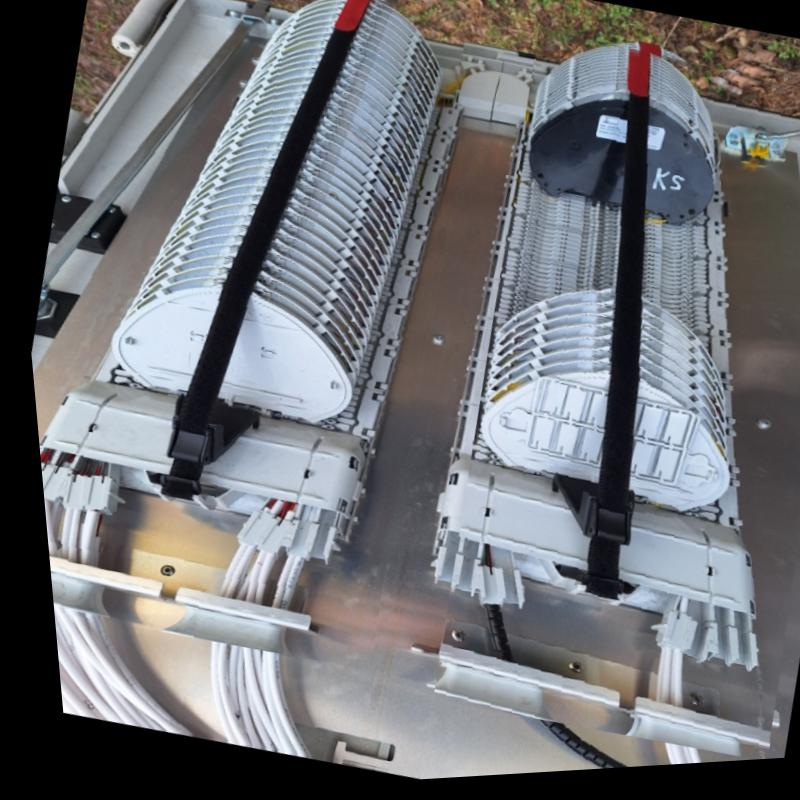NT-Gehause: (25, 0, 800, 783)
Spleiskassetten: (33, 0, 455, 657), (421, 46, 750, 768)
